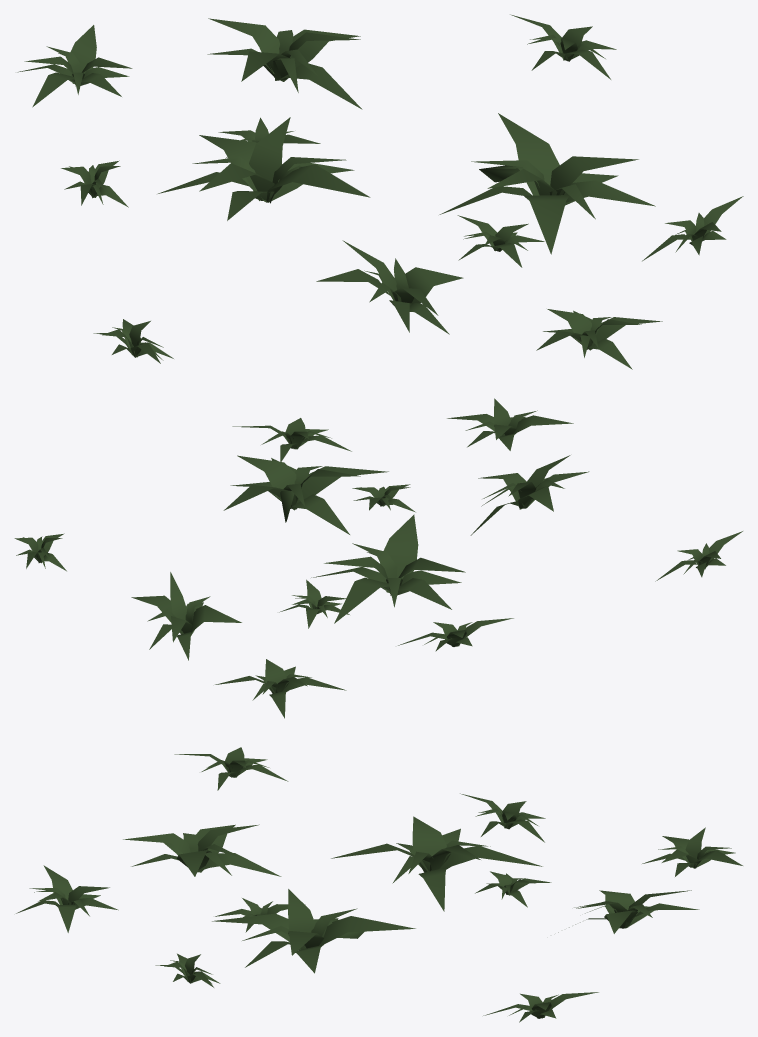
Rendered from big_grass.glb.
The picture shows the model from 3 angles, top to bottom: view 1: azimuth 30°, elevation 25°; view 2: azimuth 150°, elevation 25°; view 3: azimuth 270°, elevation 25°; orthographic projection. The views are drawn at different scales.
Visible parts, largest first — view 1: big grass 1; view 2: big grass 1; view 3: big grass 1.
Boxes of the visible parts, box(x1,y1,x2,y2) form: big grass 1: box(17, 14, 743, 369); big grass 1: box(14, 398, 742, 718); big grass 1: box(16, 747, 742, 1022).
Size of the model in its own units: 1.6 by 0.1156 by 1.86.
